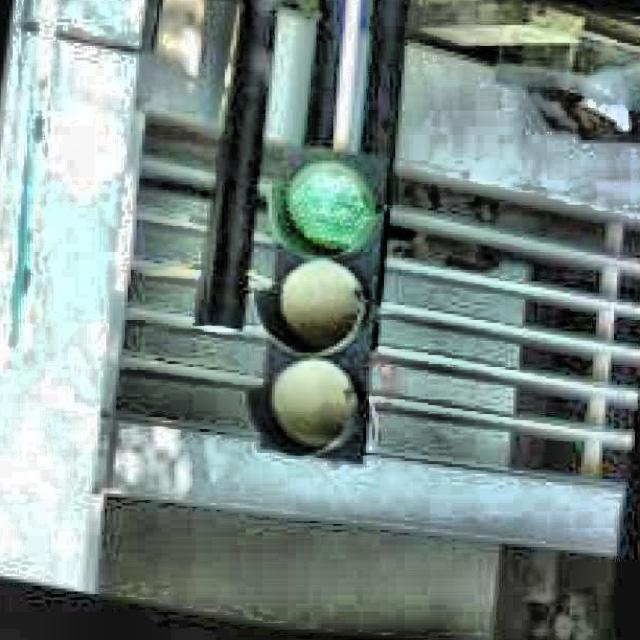green: (251, 148, 394, 459)
